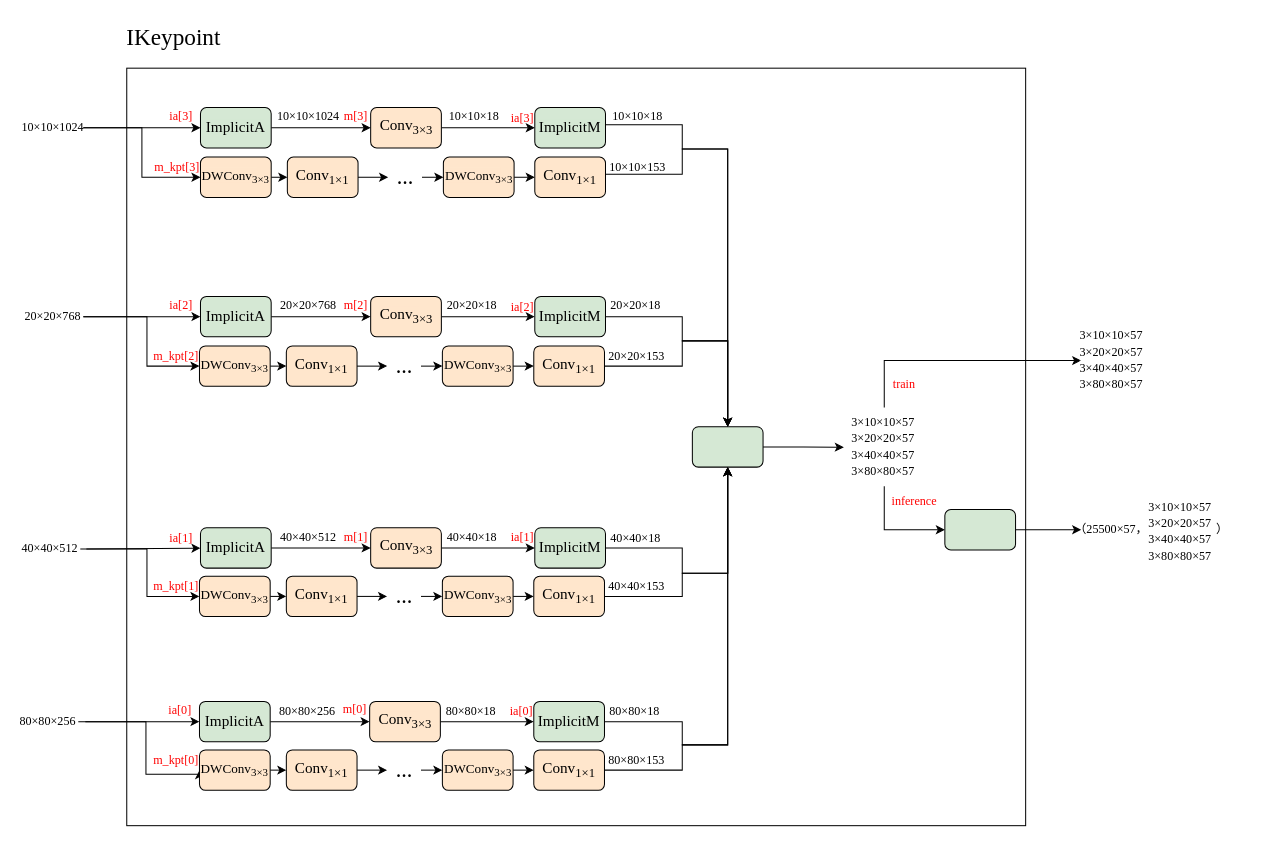
This 1270x843 diagram has some shape labels left out. The centre of each missing label's shape, as x and y in pixels:
Adjust Dimension: point (727, 446)
Extra Operation: point (980, 529)
